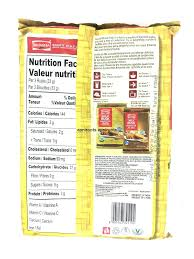Britania-toast-med: (18, 17, 171, 239)
